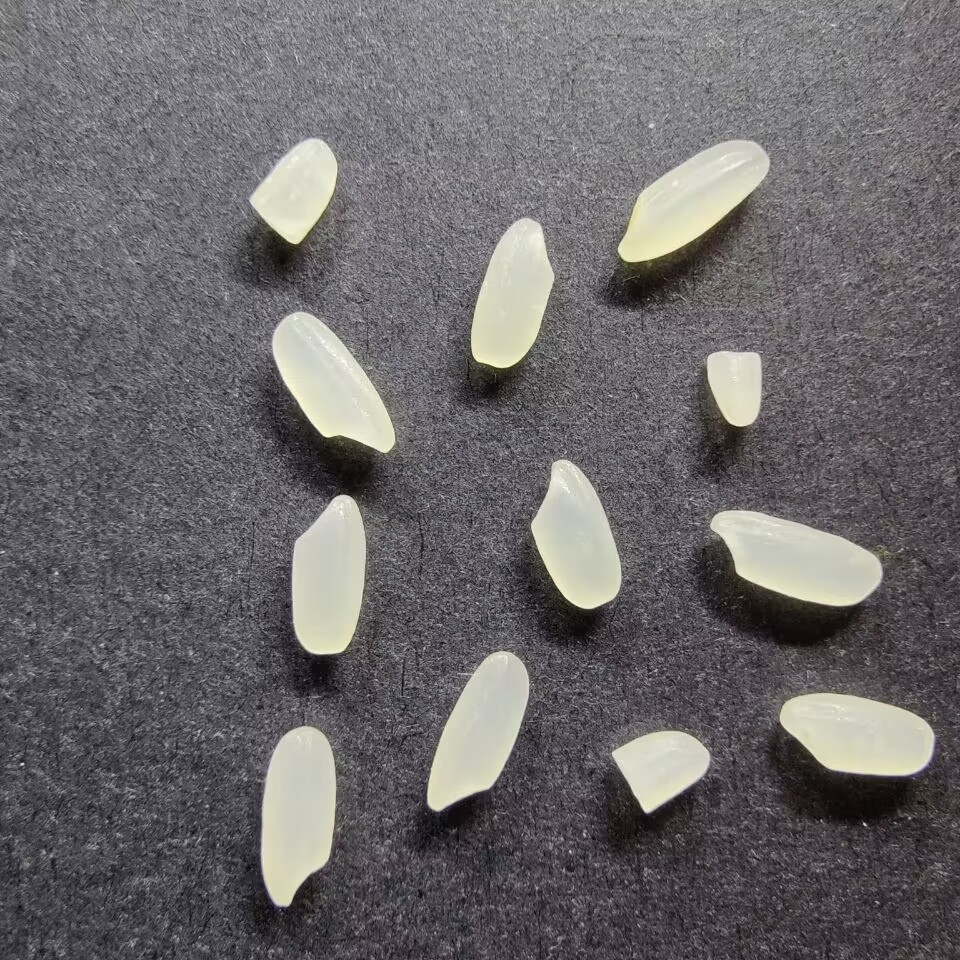broken: (243, 136, 338, 247), (608, 729, 711, 815), (705, 349, 763, 426)
rice: (617, 137, 772, 263), (269, 310, 398, 455), (708, 509, 886, 609), (425, 649, 530, 813), (258, 722, 337, 908), (528, 458, 622, 611), (468, 216, 556, 369), (778, 692, 934, 778), (289, 493, 367, 657)
